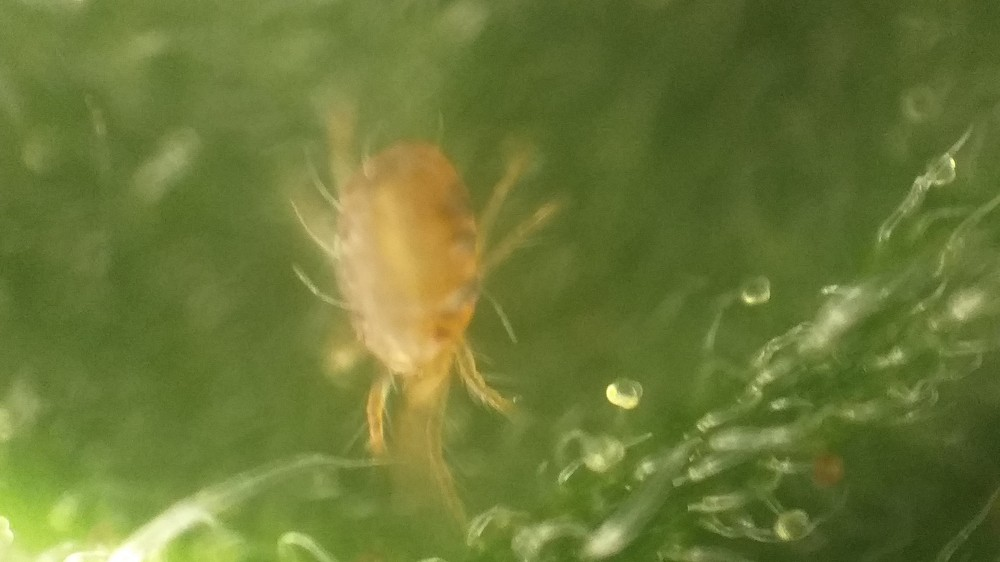Aracnido Rojo: (275, 91, 576, 521)
